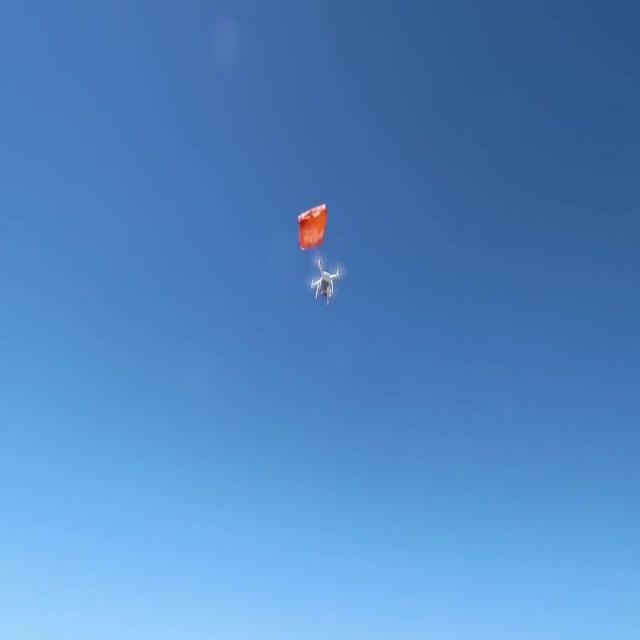UAV: (310, 260, 340, 306)
